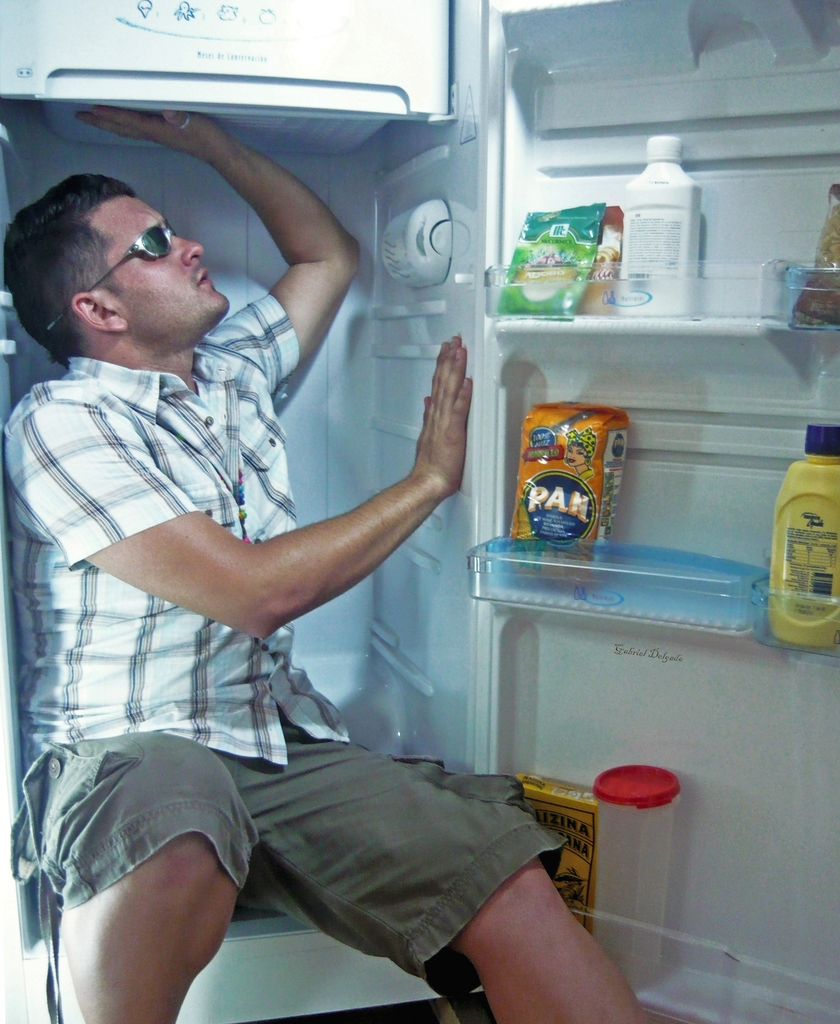refrigerator door: (513, 112, 840, 1017)
